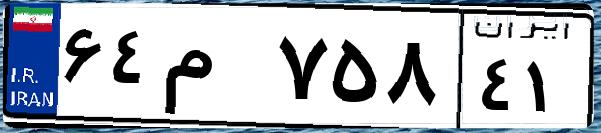1: (525, 38, 570, 115)
4: (475, 38, 525, 113), (110, 28, 158, 98)
5: (330, 28, 385, 110)
6: (57, 26, 110, 100)
7: (270, 28, 330, 110)
8: (385, 28, 445, 110)
م: (158, 20, 270, 120)
